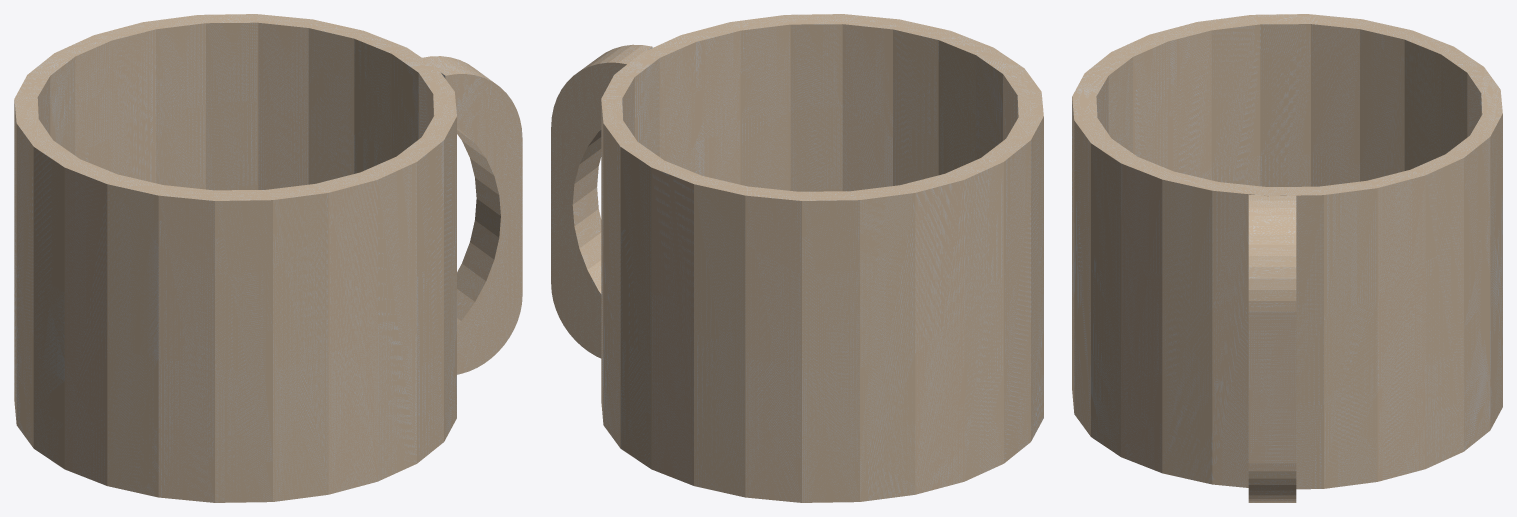
3 renders of one model, left to right at view 1: azimuth 30°, elevation 25°; view 2: azimuth 150°, elevation 25°; view 3: azimuth 270°, elevation 25°, orthographic. The views are drawn at different scales.
Parts seen in each view (by area): view 1: mesh1_mesh1-geometry, mesh2_mesh2-geometry; view 2: mesh1_mesh1-geometry, mesh2_mesh2-geometry; view 3: mesh1_mesh1-geometry, mesh2_mesh2-geometry.
Part boxes in pixels (left/top/right/bottom): mesh1_mesh1-geometry: left=14, top=14, right=456, bottom=502; mesh2_mesh2-geometry: left=422, top=56, right=522, bottom=374; mesh1_mesh1-geometry: left=601, top=14, right=1043, bottom=502; mesh2_mesh2-geometry: left=551, top=44, right=652, bottom=358; mesh1_mesh1-geometry: left=1072, top=14, right=1502, bottom=489; mesh2_mesh2-geometry: left=1248, top=195, right=1296, bottom=502.
Size of the model in its own units: 0.691 by 0.4347 by 0.5776.
